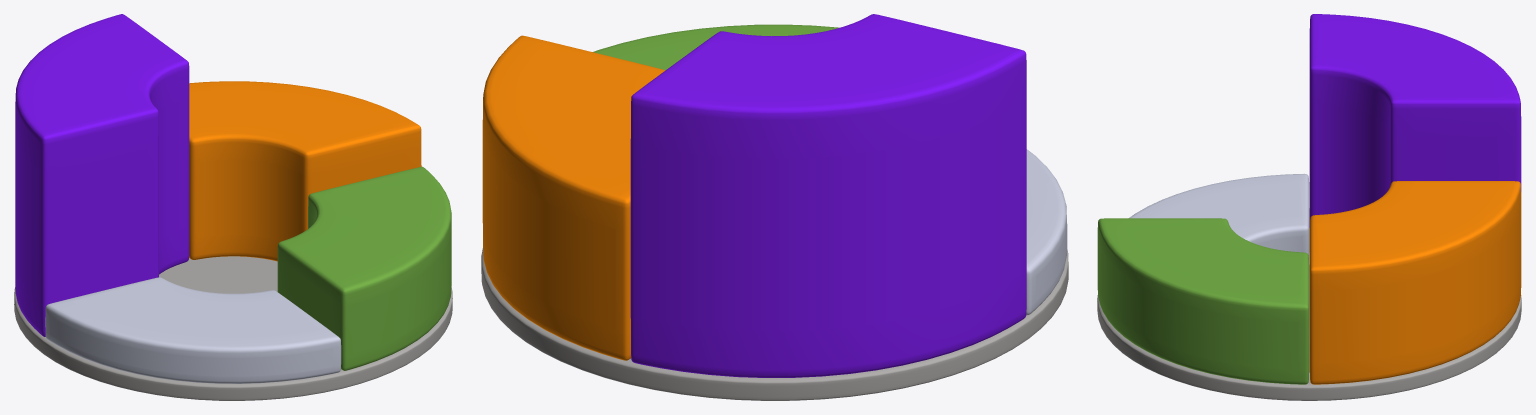
Rendered from analytics-secured-banking-animated-3d-icon-255906666819.glb.
3 views of the same model, side by side, from view 1: azimuth 30°, elevation 25°; view 2: azimuth 150°, elevation 25°; view 3: azimuth 270°, elevation 25° (orthographic). The views are drawn at different scales.
Visible parts, largest first — view 1: Chart 1, Chart 2, Chart 3, Chart 4, Base; view 2: Chart 1, Chart 2, Base, Chart 4, Chart 3; view 3: Chart 2, Chart 1, Chart 3, Chart 4, Base.
Boxes of the visible parts, x1,y1,x2,y2 form: Chart 1: [15, 14, 189, 336]; Chart 2: [189, 81, 421, 261]; Chart 3: [277, 166, 451, 370]; Chart 4: [45, 277, 341, 383]; Base: [14, 256, 452, 400]; Chart 1: [630, 14, 1026, 377]; Chart 2: [482, 35, 665, 360]; Base: [481, 248, 1068, 400]; Chart 4: [1026, 149, 1067, 315]; Chart 3: [593, 24, 838, 70]; Chart 2: [1309, 181, 1521, 384]; Chart 1: [1309, 14, 1521, 227]; Chart 3: [1097, 218, 1309, 384]; Chart 4: [1129, 173, 1309, 256]; Base: [1097, 208, 1521, 400].
Size of the model in its own units: 1.64 by 0.9009 by 1.64.
